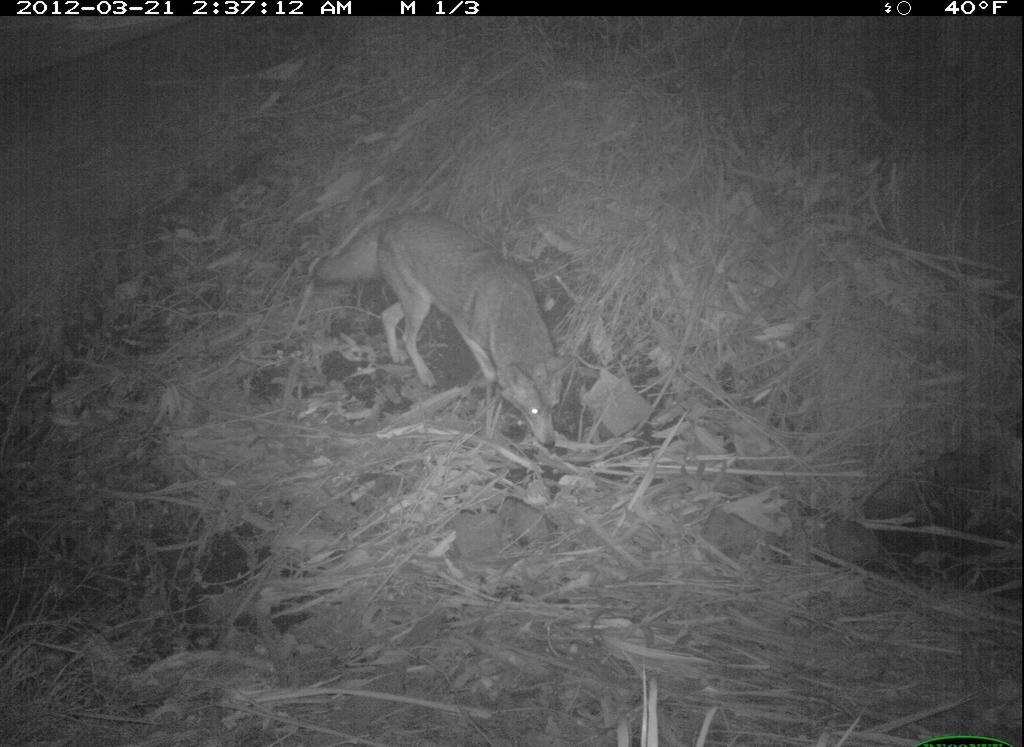coyote: (311, 206, 577, 464)
